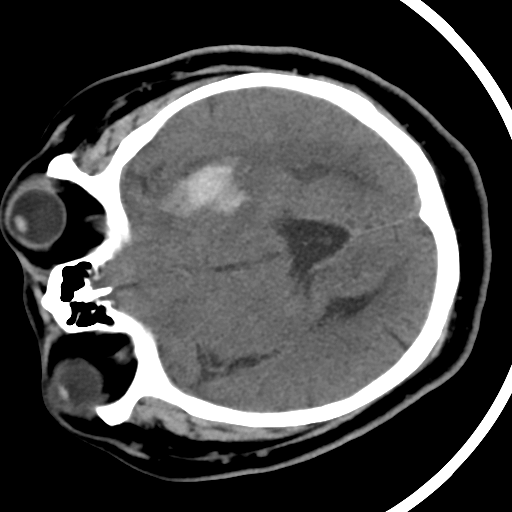a: (141, 139, 260, 230)
